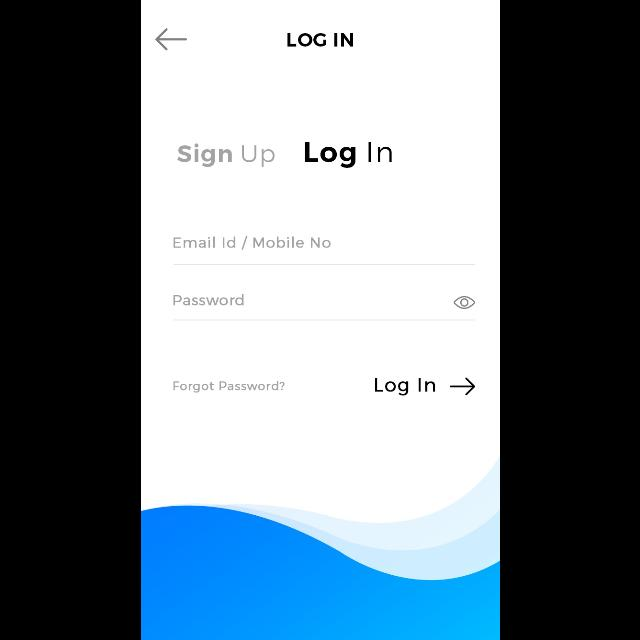icon: (155, 28, 187, 52), (449, 377, 475, 395), (453, 296, 475, 310)
input: (173, 236, 475, 264), (173, 295, 475, 321)
text: (177, 144, 275, 168), (304, 142, 392, 168), (174, 236, 330, 250), (173, 381, 285, 393), (375, 378, 435, 396), (287, 33, 353, 47), (172, 294, 244, 306)
